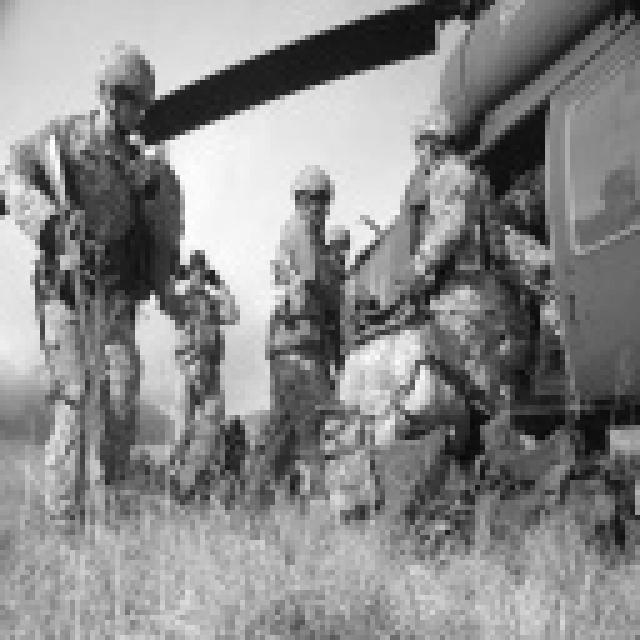Rifle: (17, 119, 155, 391), (290, 220, 372, 408)
